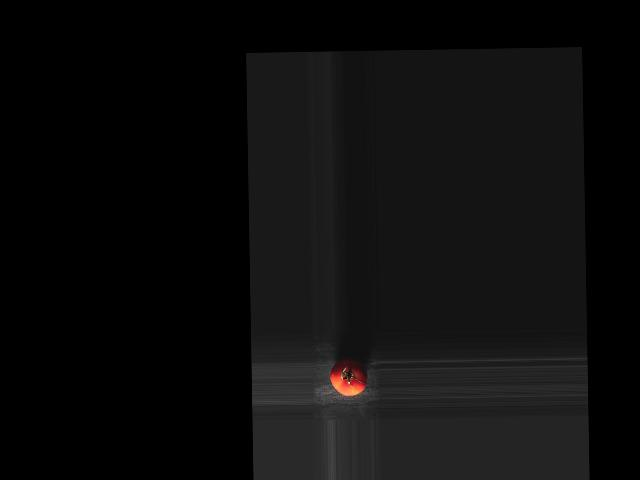tomato: (330, 358, 367, 396)
